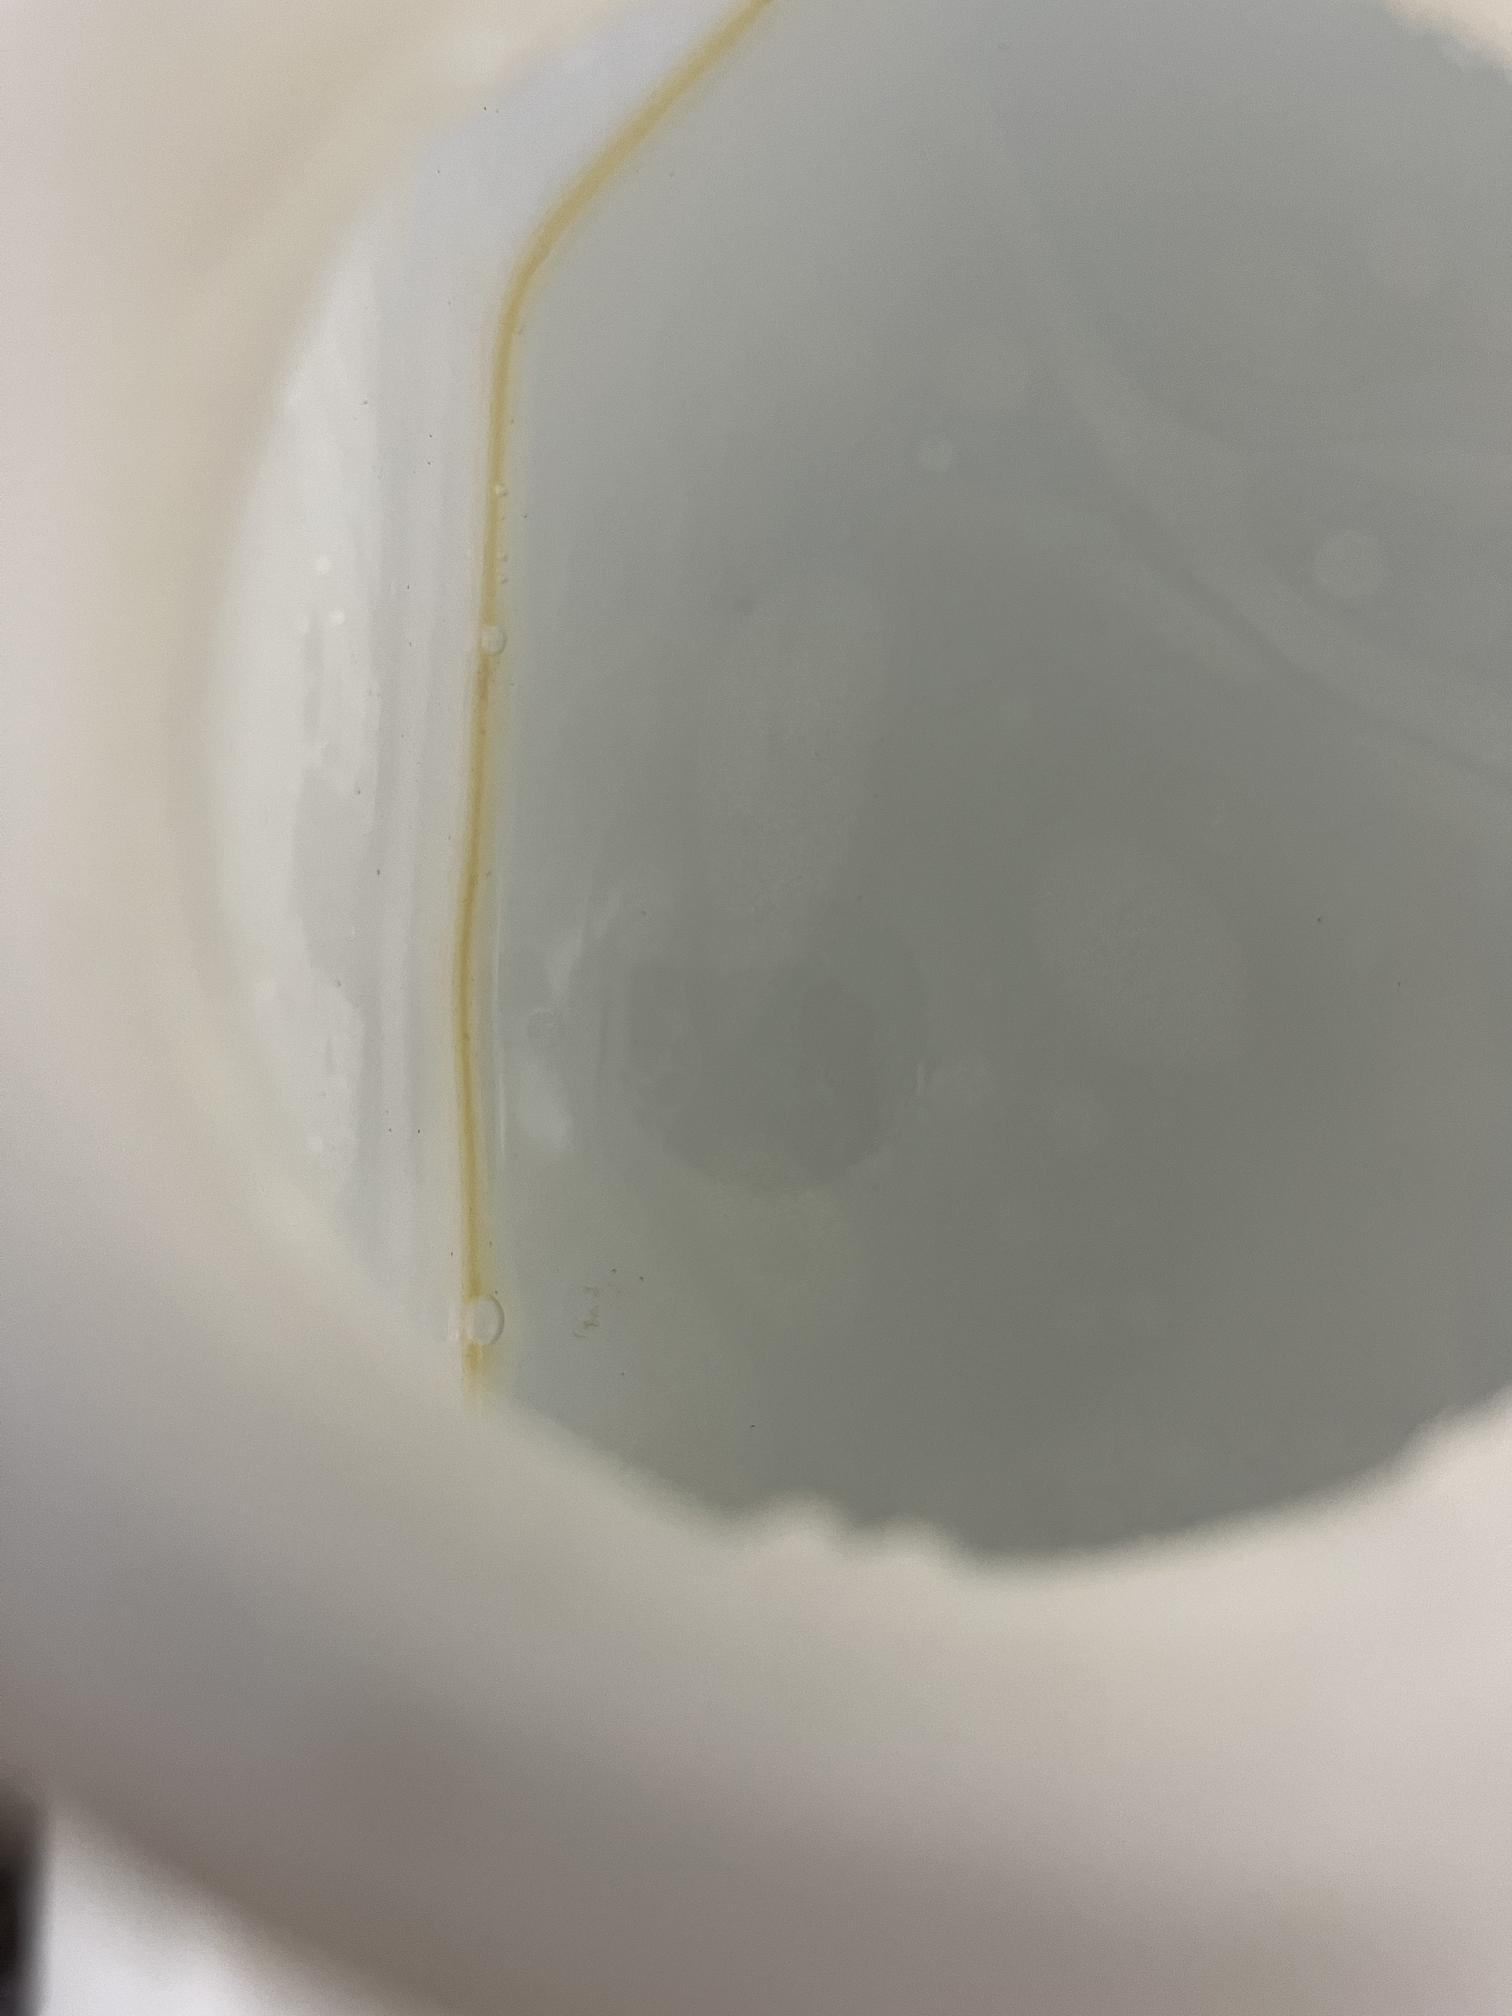Borda de Oleo - - 20ml: (451, 0, 775, 1395)
Presenca de Oleo - - 20ml: (110, 121, 1450, 1660)
